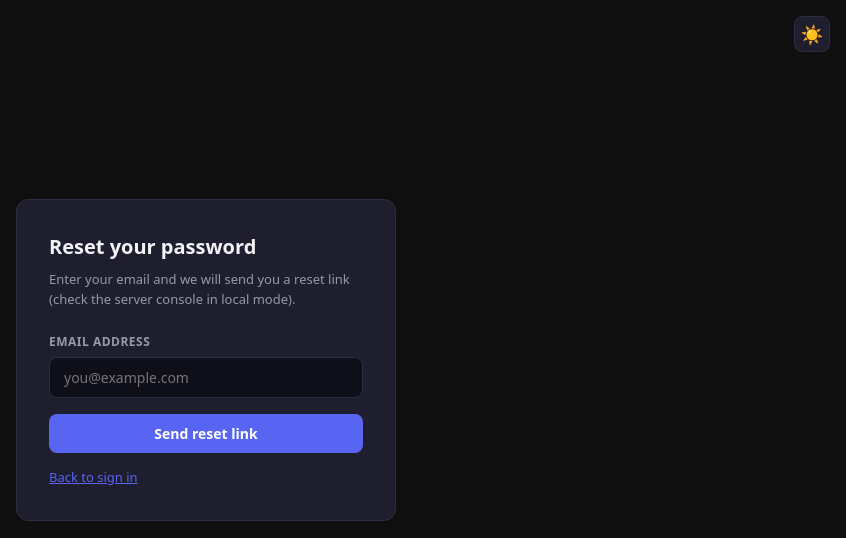
Scenario: shows success message after submission
Type "alice@example.com" into the field with test id "fp-email" at (206, 378), box left=49, top=357, right=363, bottom=398
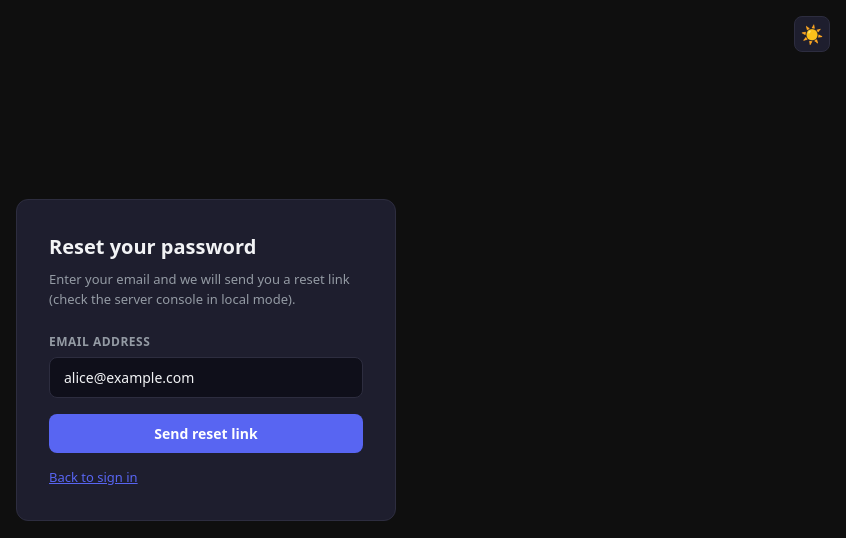
Click the button with test id "fp-submit" at (206, 434), box left=49, top=414, right=363, bottom=453
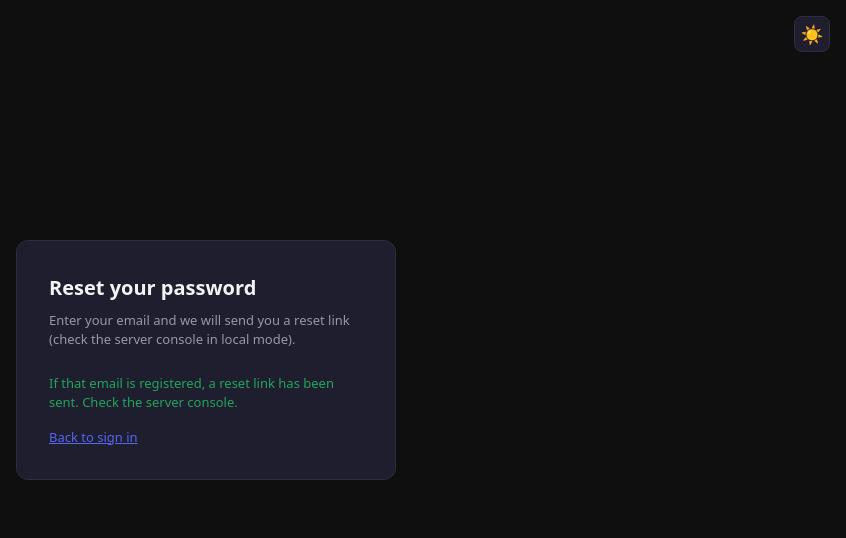
Expected: the text with test id "sent-message" is shown, left=49, top=374, right=363, bottom=413
